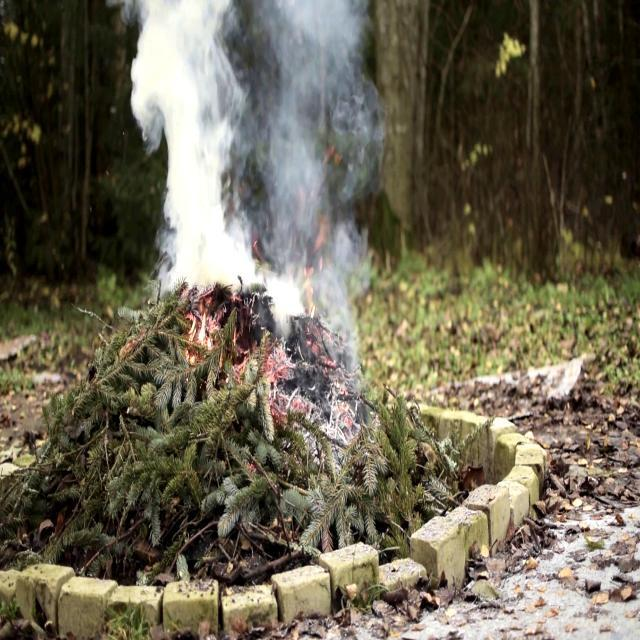Smoke: (250, 0, 380, 320), (120, 0, 252, 286)
